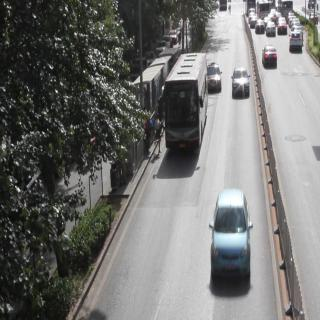BigCar: (165, 55, 206, 154)
Car: (210, 190, 253, 288), (233, 62, 249, 100), (208, 59, 223, 92), (262, 44, 279, 67), (288, 31, 303, 53), (276, 19, 287, 34), (266, 21, 276, 36), (255, 21, 265, 34)
